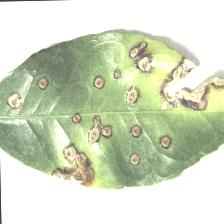canker: (2, 38, 222, 190)
